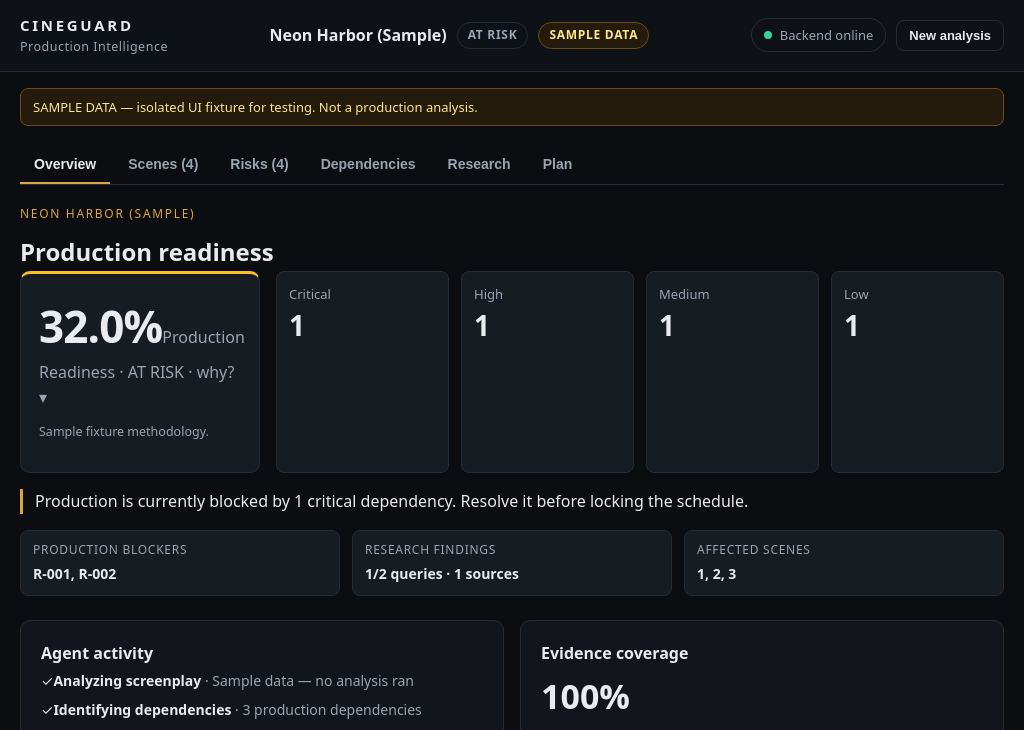
Test: Command Center › renders Parallel research with sources and error states
Click the tab "Research" at {"x": 479, "y": 165}, box [434,146,525,184]
(page scrolled)
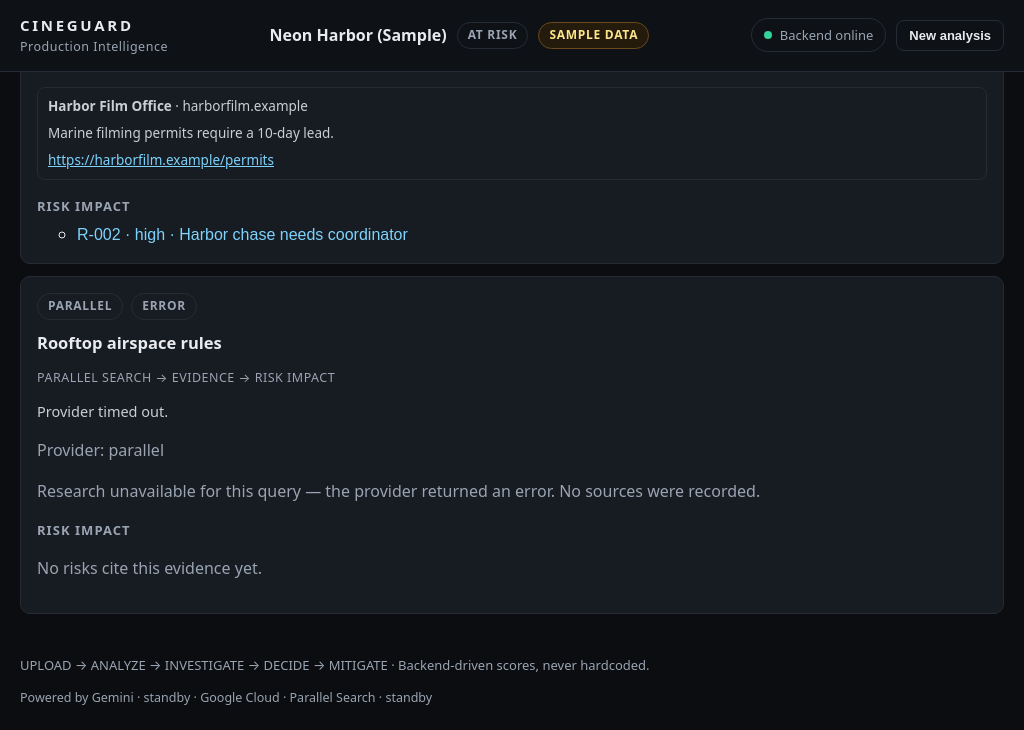
Check: the text "Harbor Film Office" is shown, box [48,97,172,115]
Check: the text "Research unavailable for this query" is shown, box [37,480,760,502]
